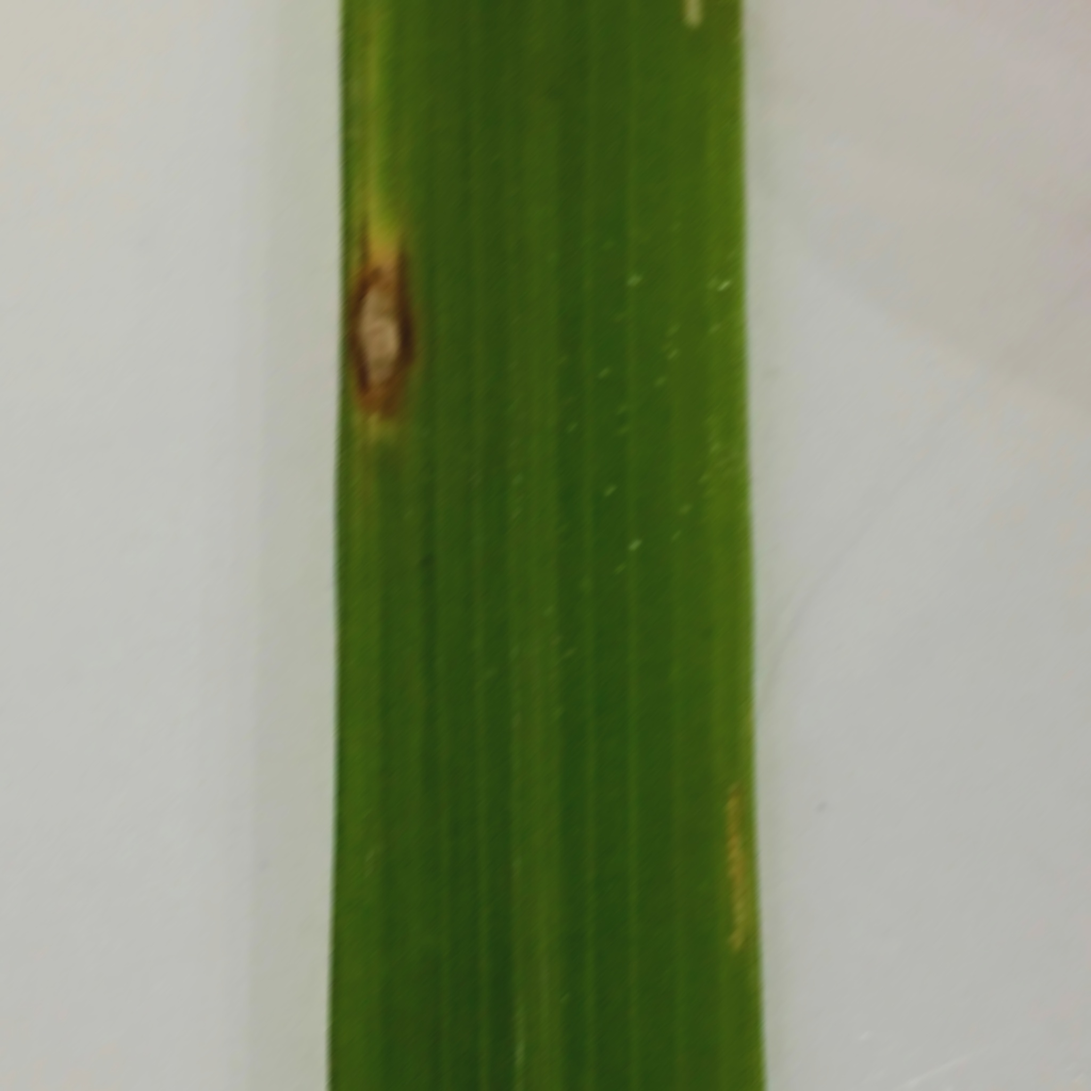Brown_Spot: (298, 158, 454, 471)
